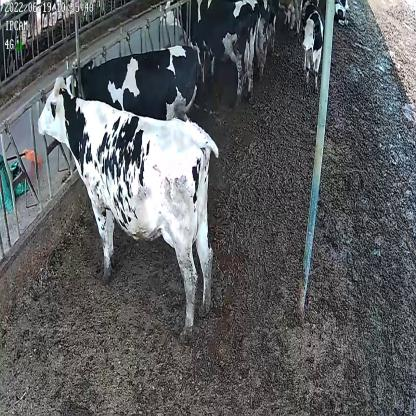cow: (37, 73, 220, 343), (57, 44, 206, 122), (160, 0, 258, 102), (300, 0, 324, 93), (333, 0, 351, 28)
